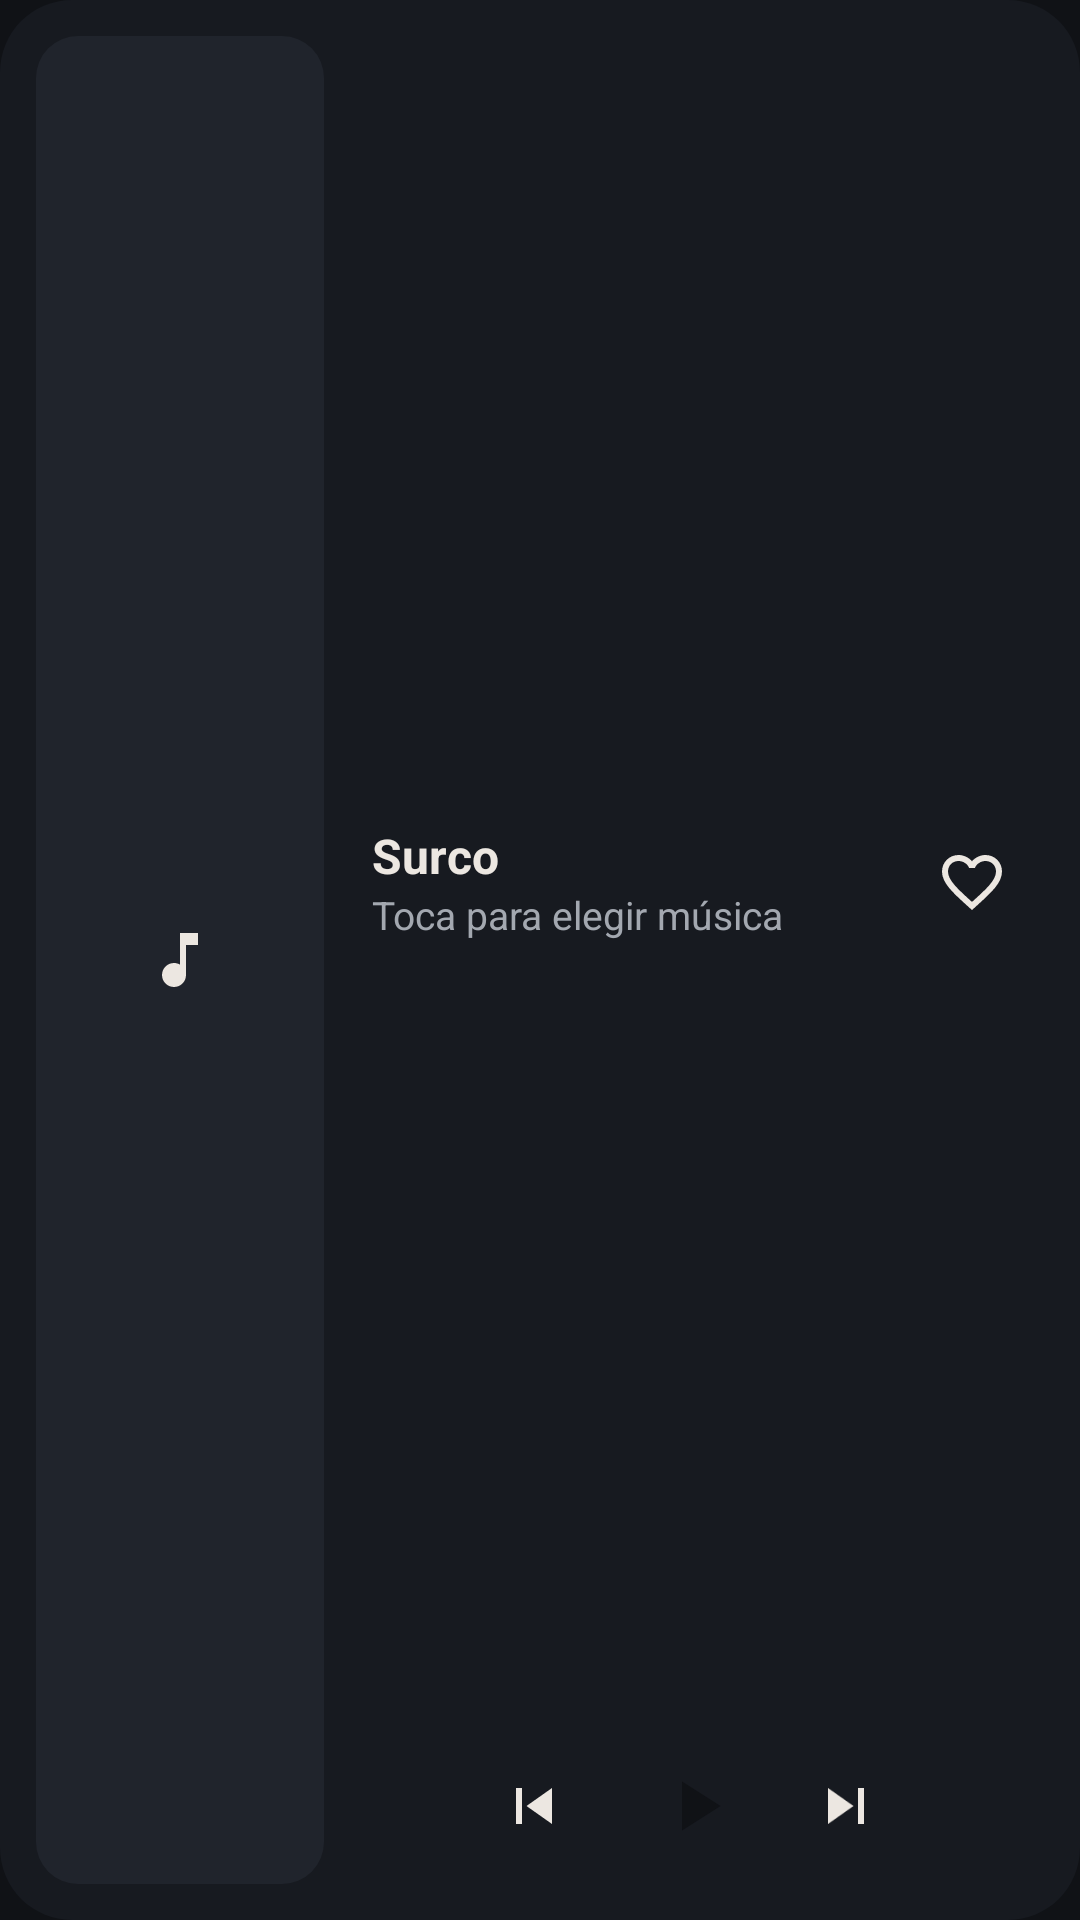

Screen size 1080x1920. Icon name, then its box in pixels as (x1, y1, x2, y2):
Anterior: (516, 1788, 552, 1824)
Favorita: (942, 855, 1002, 910)
note: (162, 933, 198, 987)
Siguiente: (828, 1788, 864, 1824)
